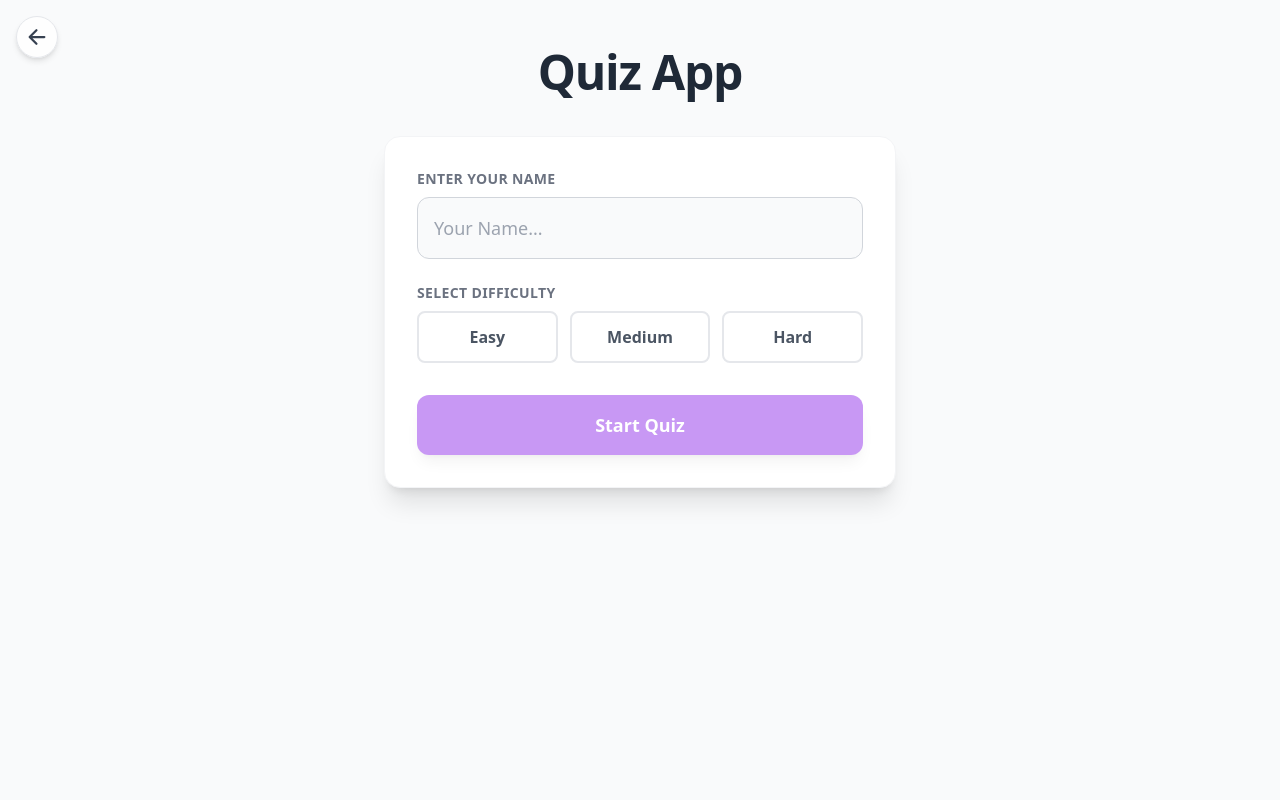
Scenario: Quiz Component Integration › updates score correctly when correct answer is clicked
Note: Start Quiz
In the field with placeholder "Your Name...": (640, 228) [417,197,863,259], type "TestUser"
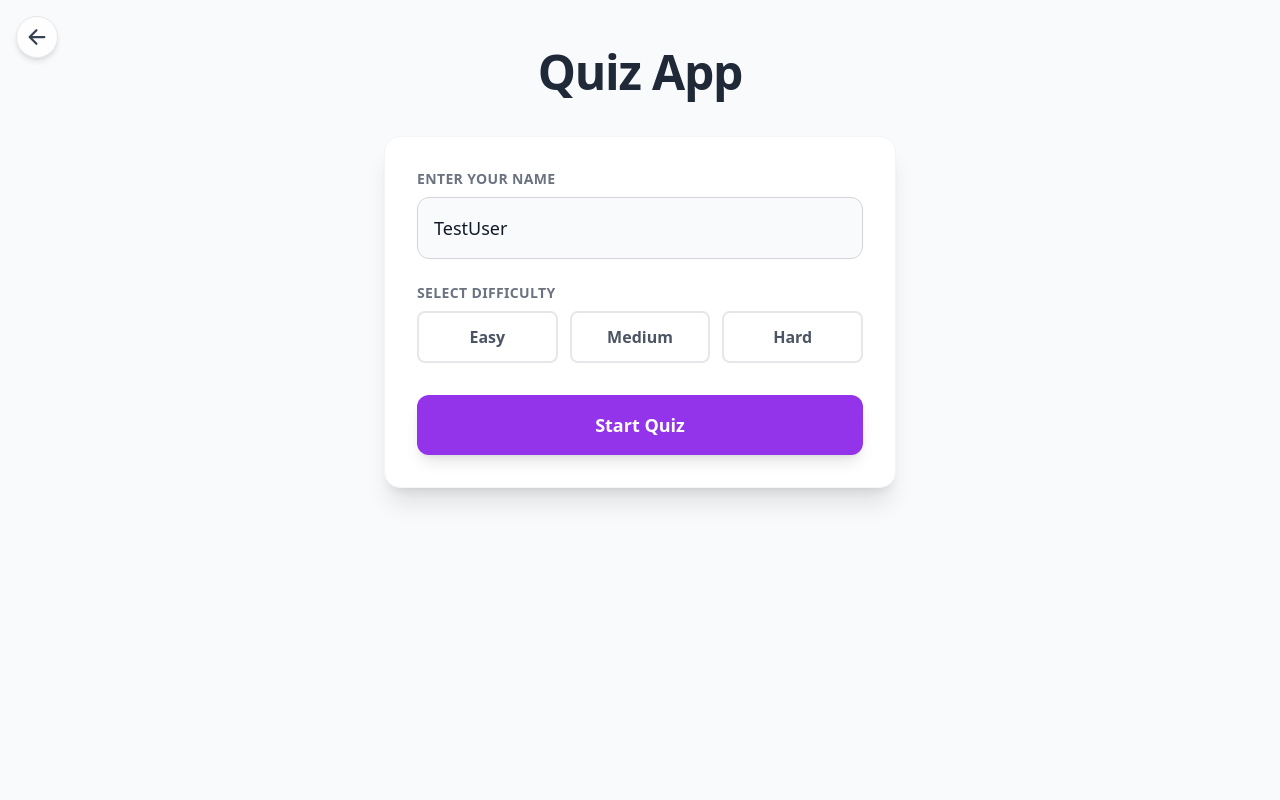
Click the button "Start Quiz": click(640, 425) [417,395,863,455]
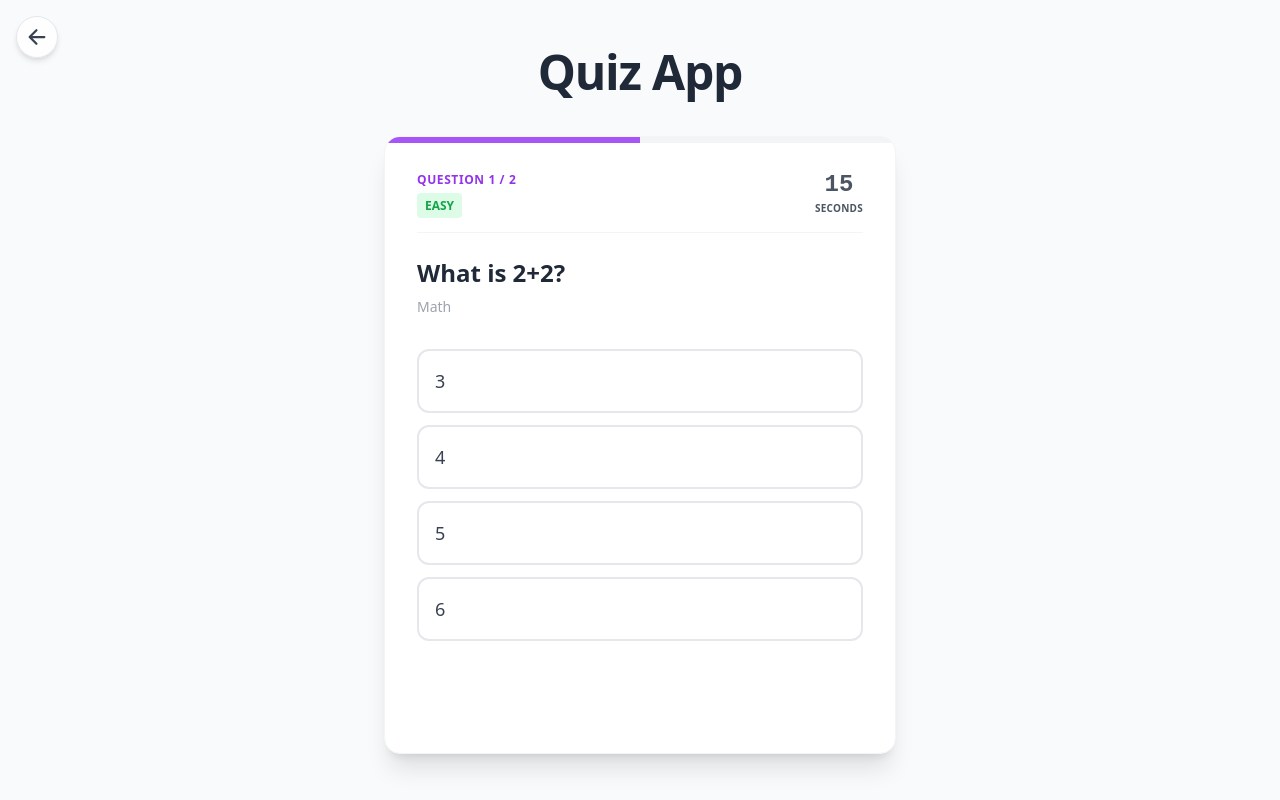
Expected: the heading "What is 2+2?" is shown, [417,256,565,289]
Note: Click Correct Answer
Click the button "4": click(440, 457) [417,425,863,489]
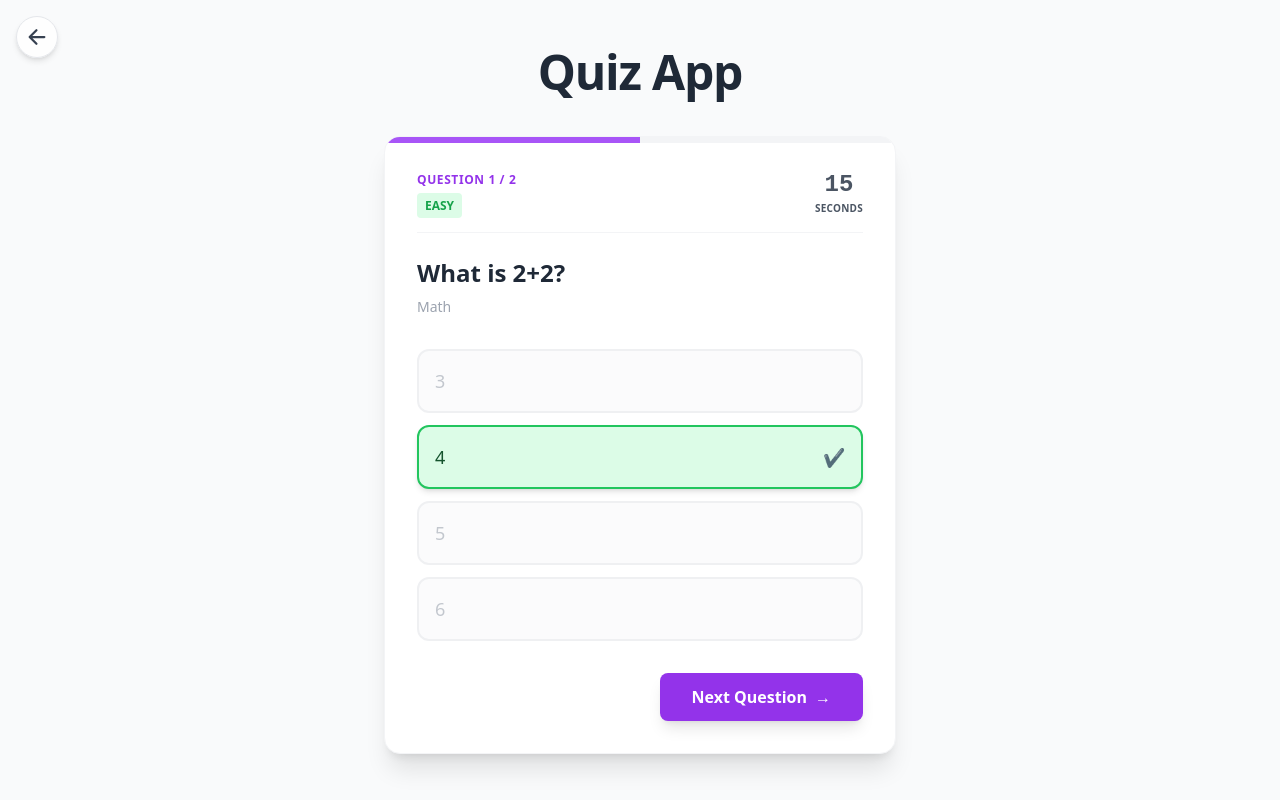
Expected: the text "✔" is shown, [823,443,845,471]
